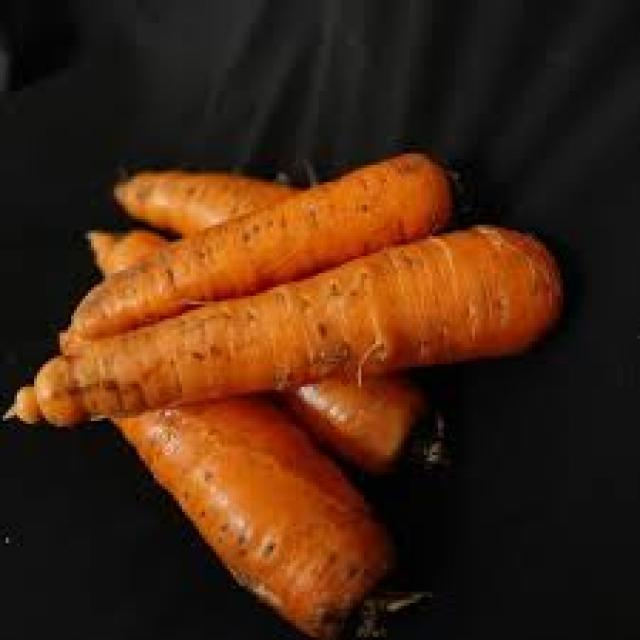Stale_Carrot: (10, 228, 576, 425), (103, 384, 406, 638)
